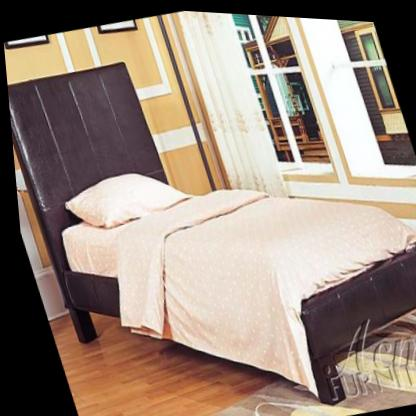Bed: (6, 62, 416, 402)
Wooden floor: (43, 313, 233, 416)
